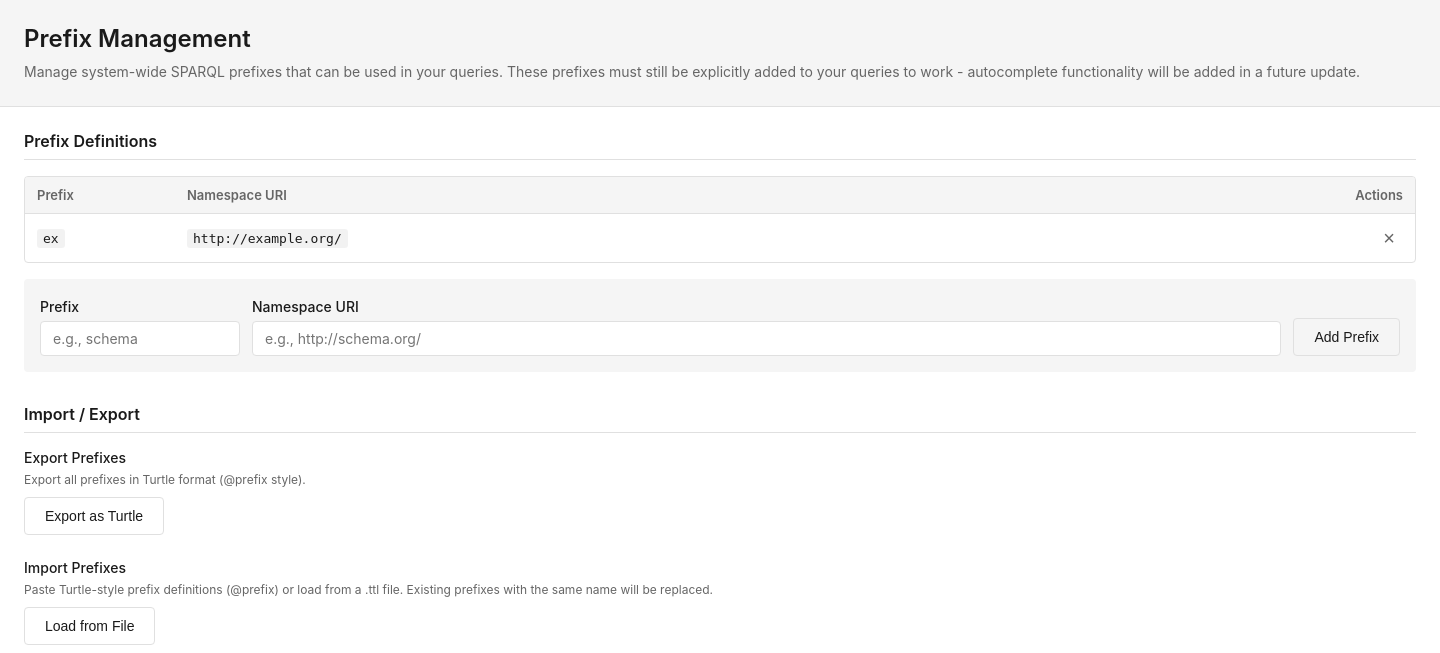
Test case: PrefixManagementSettingsView › lists stored prefixes and shows empty state when none
The width and height of the screenshot is (1440, 653).
Click the button with class "btn-delete".
click(1389, 238)  # box [1375, 224, 1403, 252]
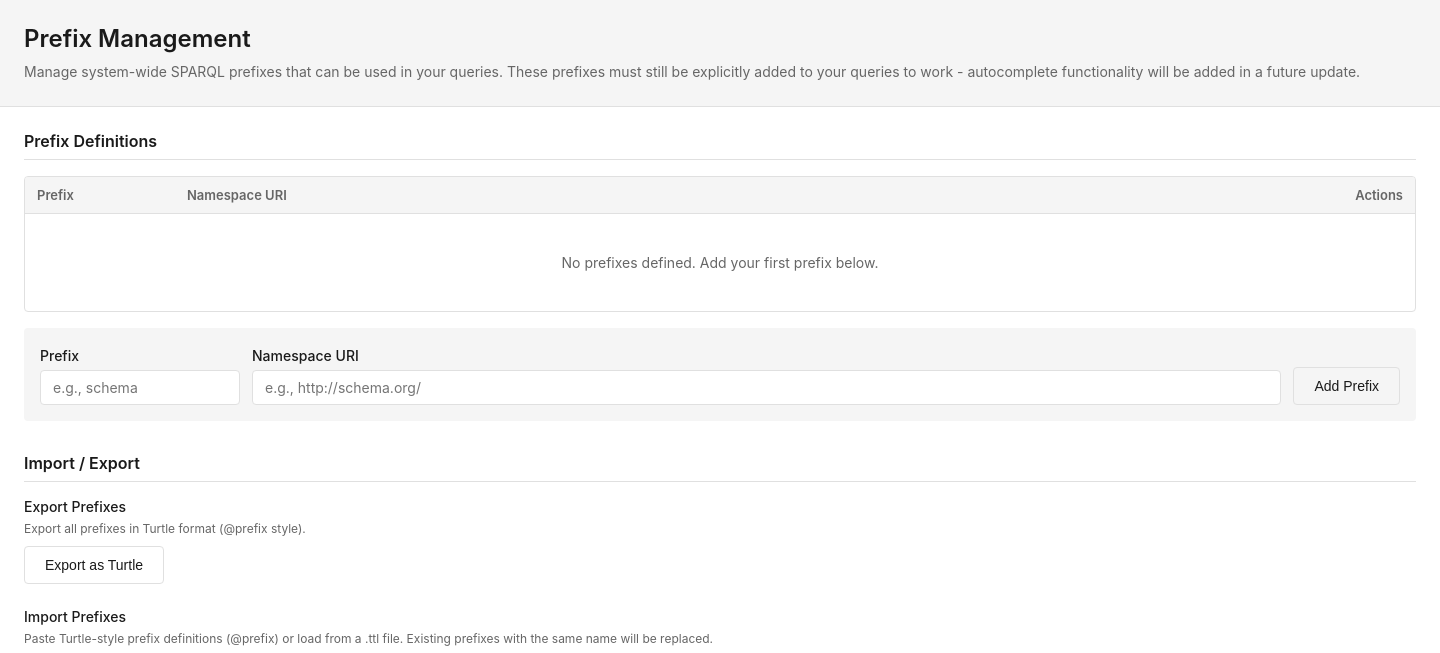
Check: the text "No prefixes defined. Add your first prefix below." is shown, box [562, 254, 878, 271]
